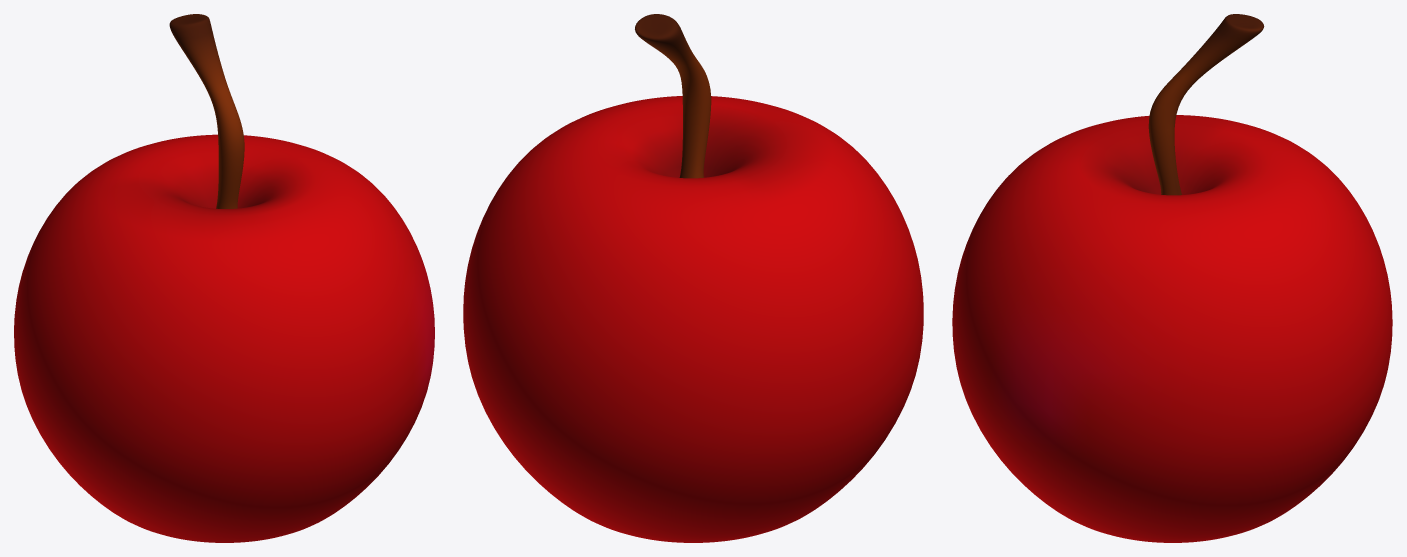
Rendered from Manzana.fbx.
3 views of the same model, side by side, from view 1: azimuth 30°, elevation 25°; view 2: azimuth 150°, elevation 25°; view 3: azimuth 270°, elevation 25° (orthographic). The views are drawn at different scales.
Parts seen in each view (by area): view 1: Manzana, Ramo manzana; view 2: Manzana, Ramo manzana; view 3: Manzana, Ramo manzana.
Boxes of the visible parts, x1,y1,x2,y2 form: Manzana: (14, 134, 434, 542); Ramo manzana: (169, 14, 244, 208); Manzana: (463, 96, 923, 542); Ramo manzana: (635, 14, 711, 178); Manzana: (952, 115, 1392, 542); Ramo manzana: (1148, 14, 1264, 195).
Bounding box in the file's own units: 7.53 × 9.16 × 7.53.
